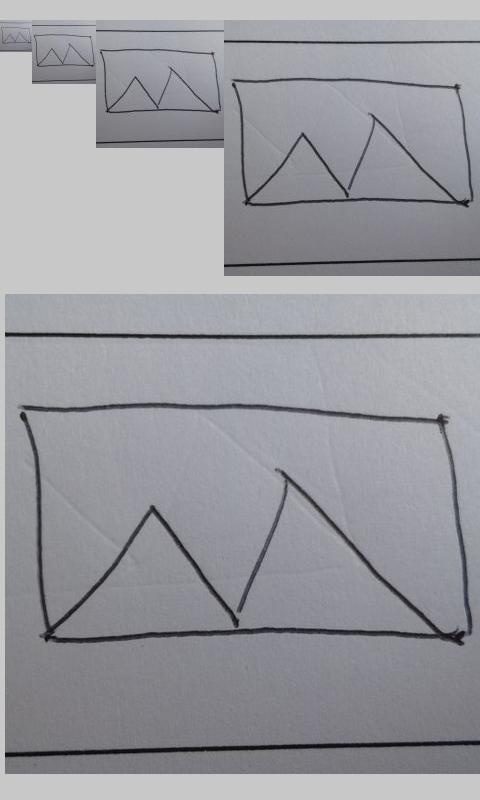image_view: (22, 398, 473, 648), (231, 75, 478, 212), (99, 48, 222, 114), (34, 34, 96, 68), (1, 26, 31, 44)
